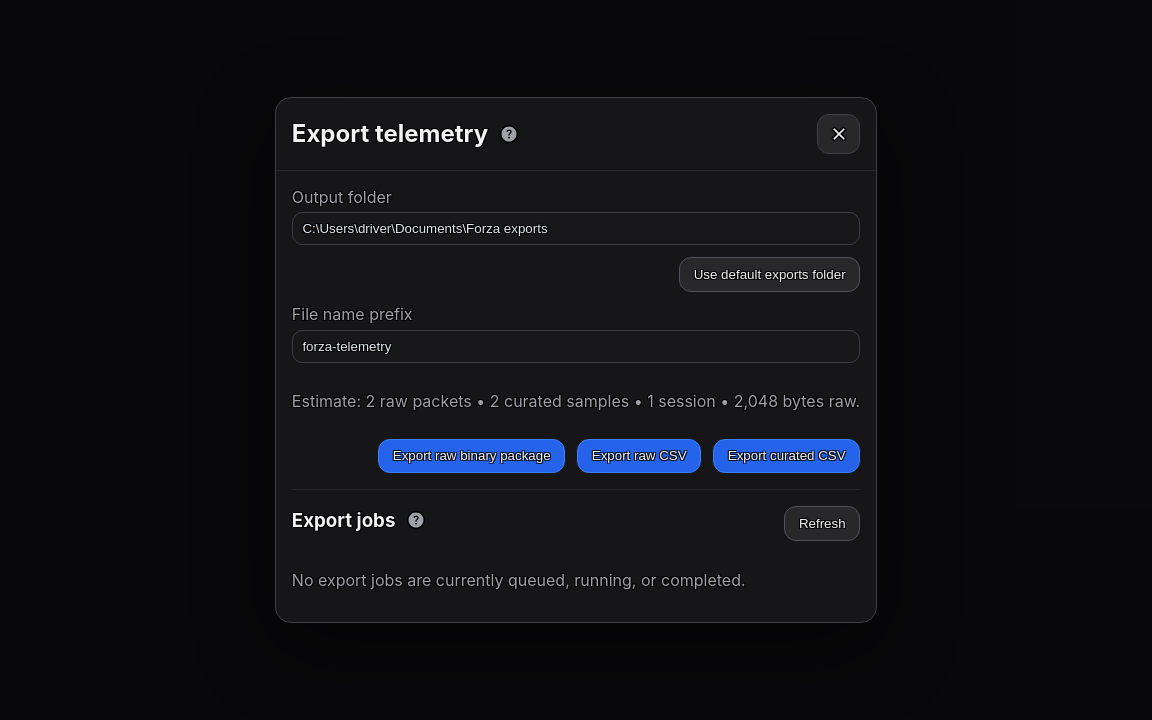
Scenario: ExportTelemetryModal › moves export guidance into title and jobs help popovers
Expected: the text "Exports dump the full telemetry database" is not shown
Click the button named "Telemetry export help".
click(508, 134)  # box [494,120,522,148]
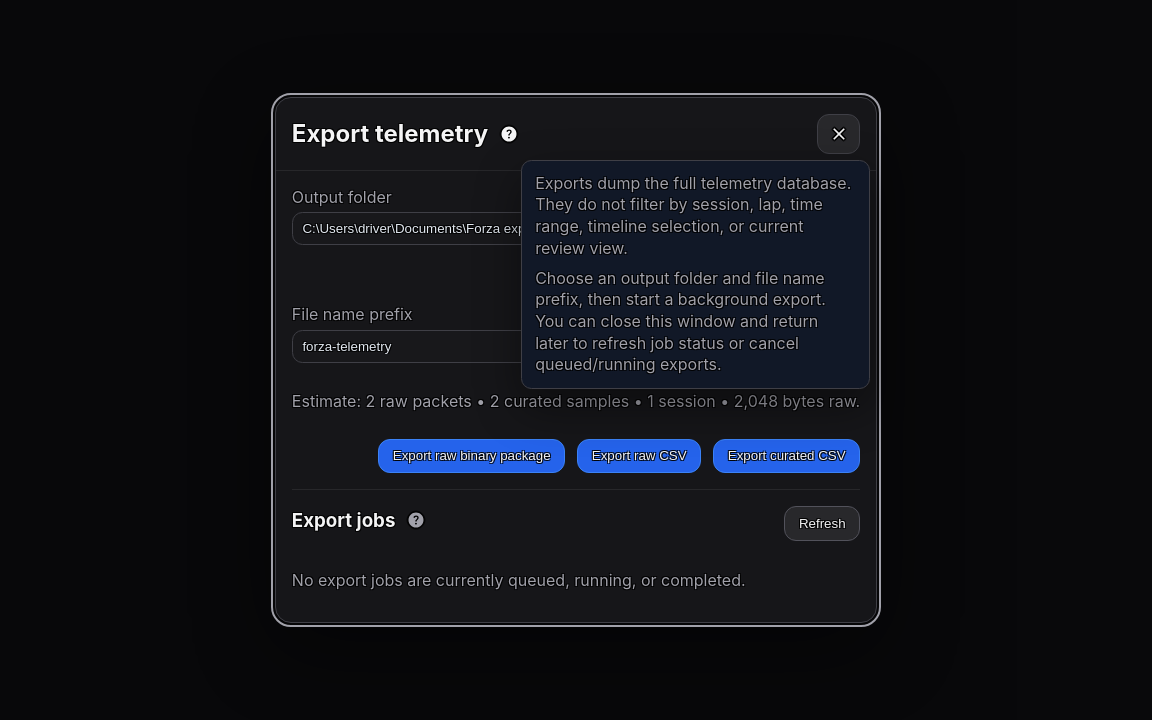
Now the dialog named "Telemetry export help" shows "Exports dump the full telemetry database", box [535,173,851,258]
Now the dialog named "Telemetry export help" shows "Choose an output folder and file name prefix", box [535,268,826,374]
Press the mouse on the element that starts with "Export telemetry" at {"x": 576, "y": 360}, box [0,0,1151,719]
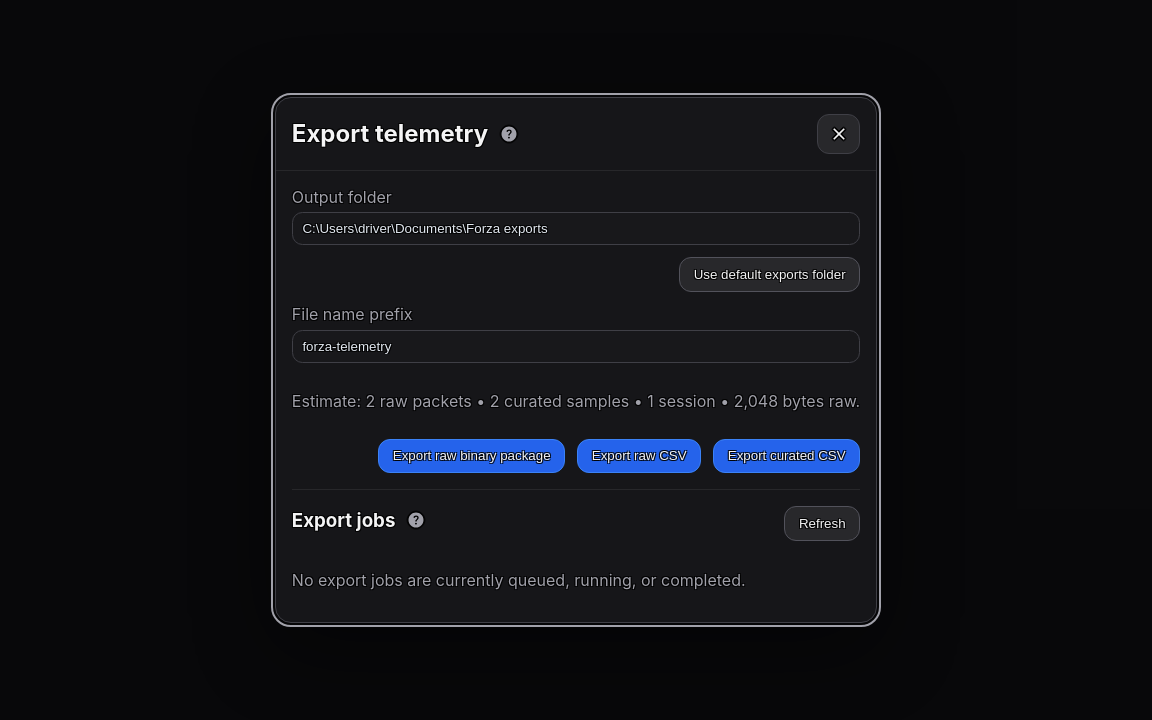
Click the button named "Export jobs help".
click(416, 520)  # box [402,506,430,534]
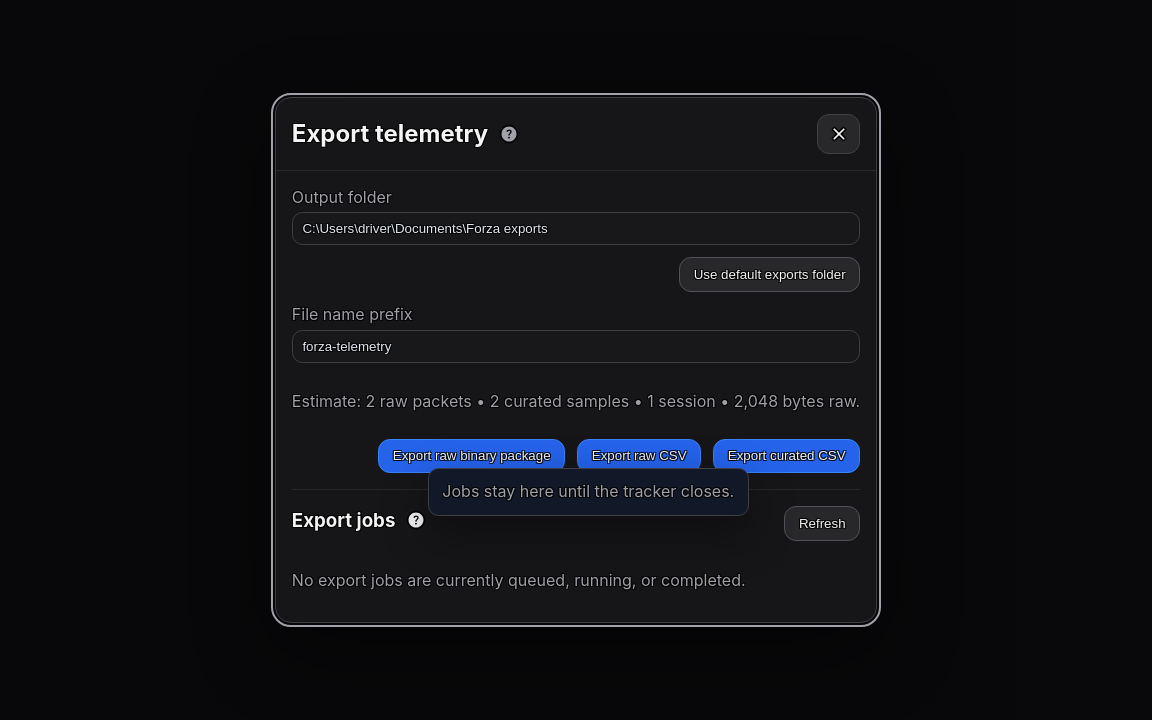
Now the dialog named "Export jobs help" shows "Jobs stay here until the tracker closes", box [442,481,734,501]
